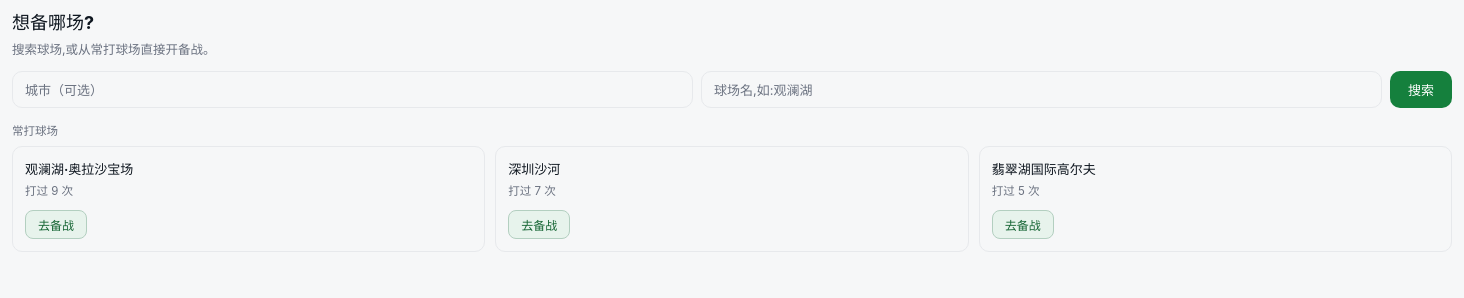
Test: CourseFinder › shows 搜索中… while the search is in flight
Type "观澜湖" into the field named "搜索球场" at (1042, 90), box [701, 71, 1382, 108]
Then press Enter
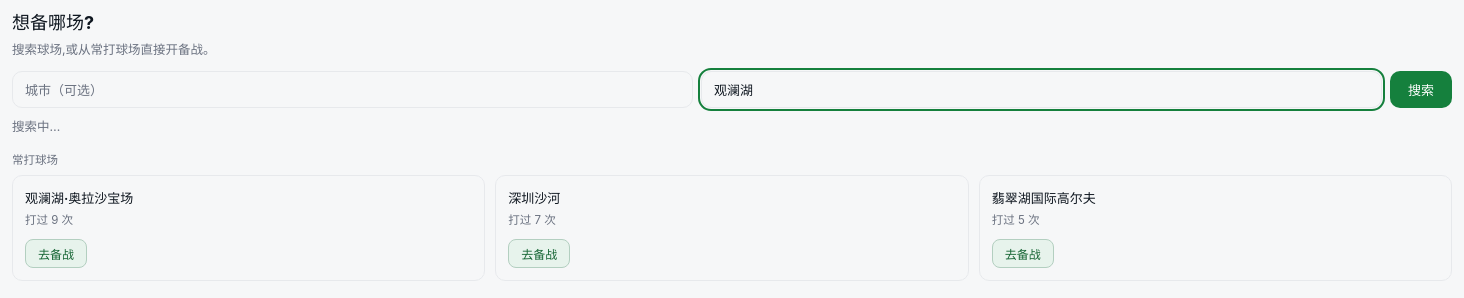
Check: the text "搜索中…" is shown, box [12, 119, 60, 134]
